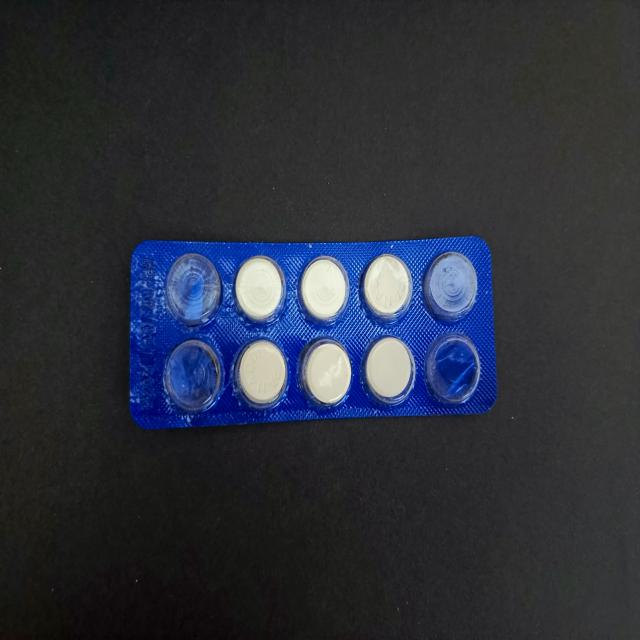defect: (161, 335, 226, 417), (163, 250, 226, 332), (420, 247, 479, 325), (423, 330, 483, 406)
